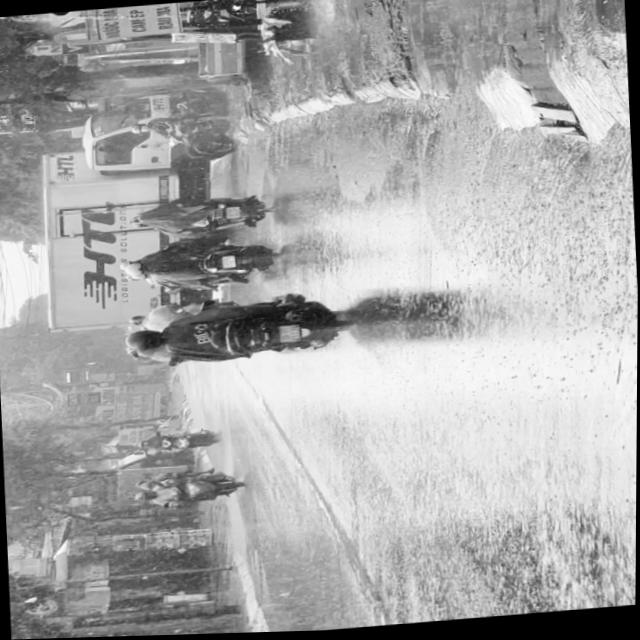helmet: (123, 329, 162, 352), (126, 263, 152, 281), (129, 216, 150, 229)
licenseplate: (119, 289, 357, 375), (122, 240, 279, 296), (124, 191, 274, 242)
nohelmet: (279, 327, 300, 344), (220, 256, 235, 270), (225, 207, 240, 220)
